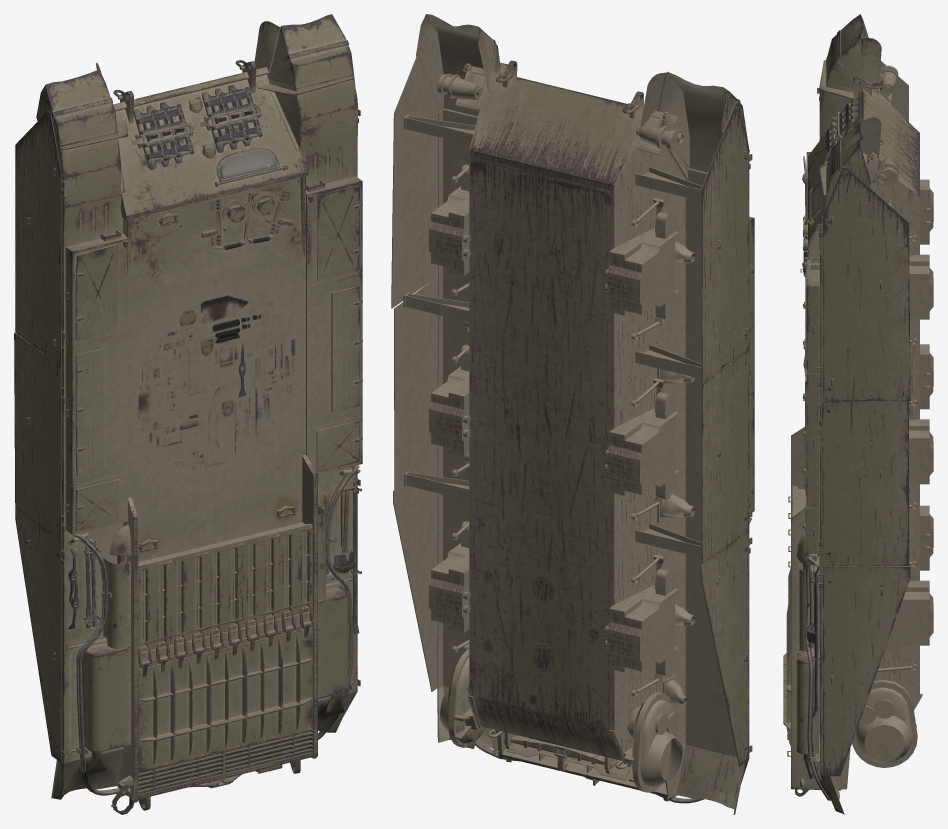
The model's file is Hull.glb.
3 views of the same model, side by side, from view 1: azimuth 30°, elevation 25°; view 2: azimuth 150°, elevation 25°; view 3: azimuth 270°, elevation 25° (orthographic). The views are drawn at different scales.
Visible parts, largest first — view 1: set_0_group_0; view 2: set_0_group_0; view 3: set_0_group_0.
Boxes of the visible parts, <box> form: set_0_group_0: <box>14,14,362,814</box>; set_0_group_0: <box>391,14,754,814</box>; set_0_group_0: <box>783,14,933,814</box>.
Size of the model in its own units: 3.37 by 7.67 by 1.53.
1 material, 1 textured.
